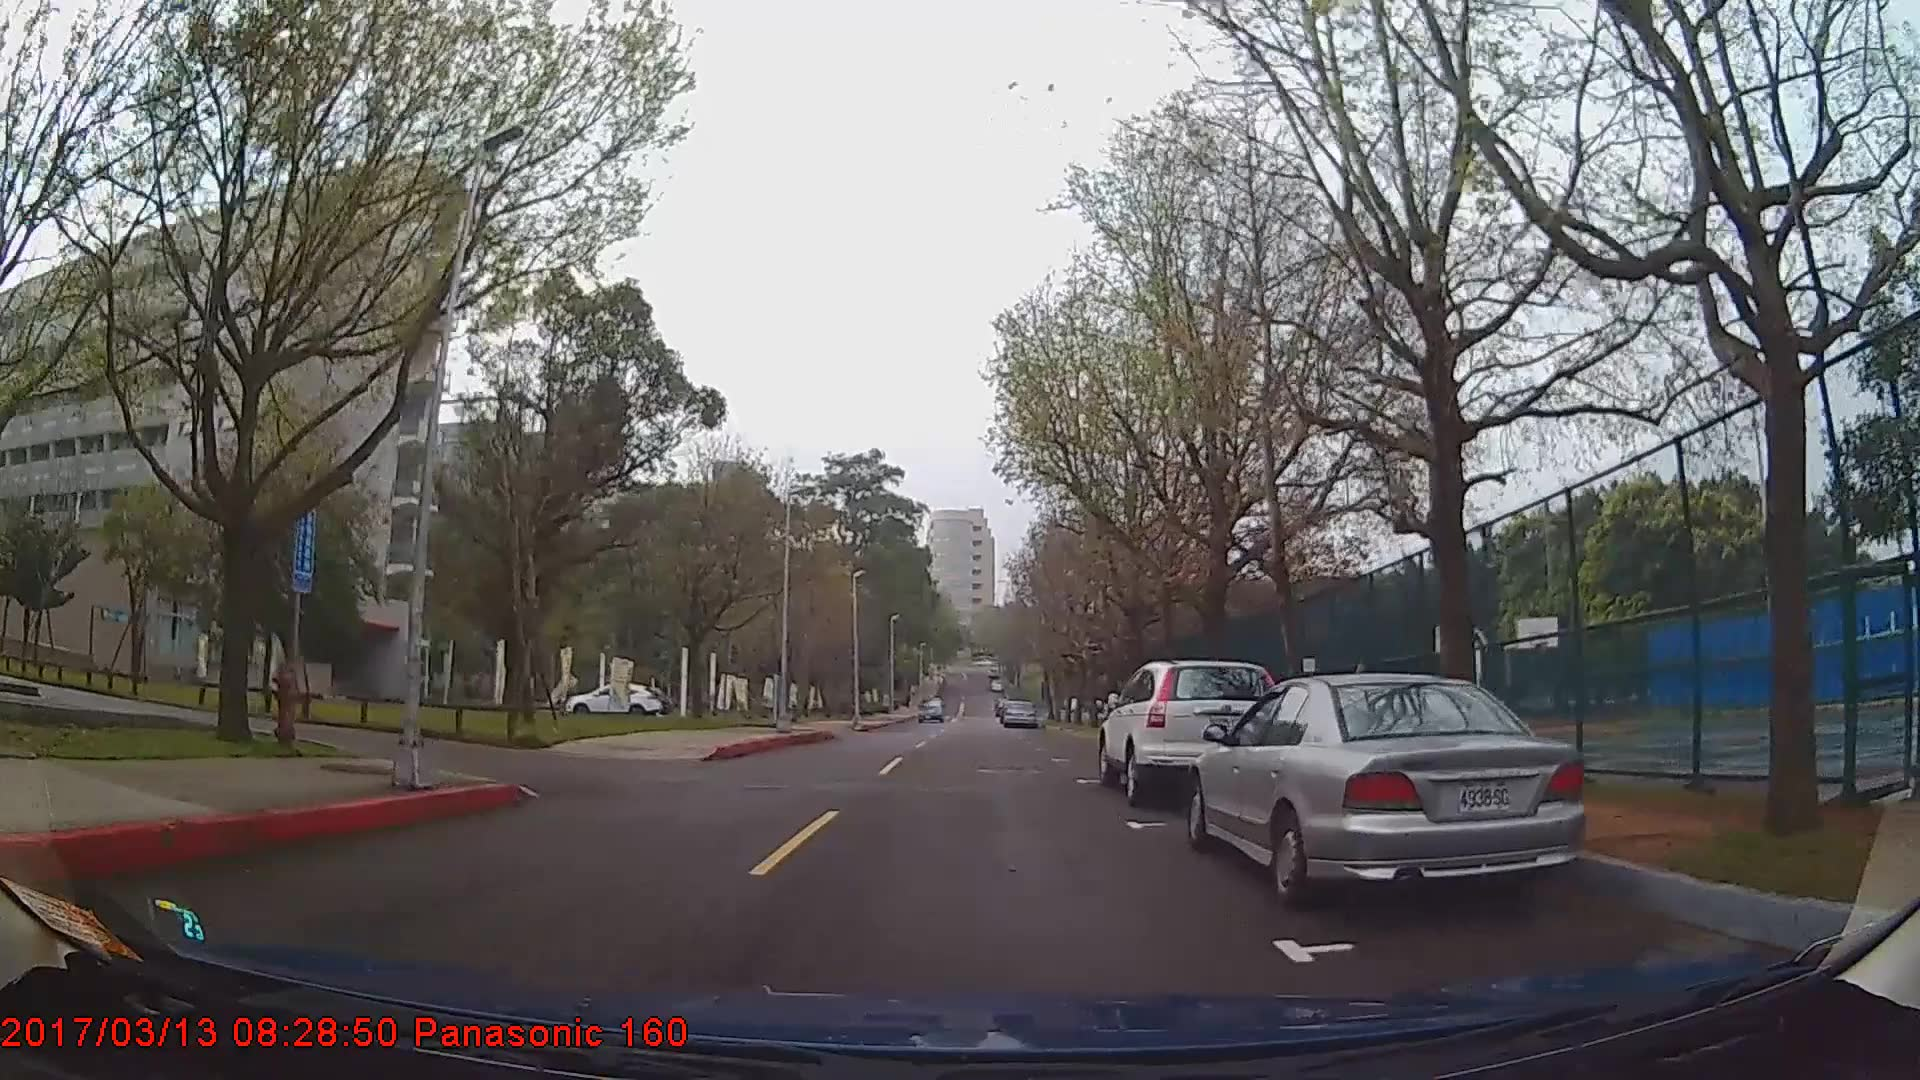vehicle: (1188, 674, 1589, 909), (1096, 662, 1286, 807), (568, 678, 665, 717), (998, 698, 1036, 729), (916, 694, 943, 723)
